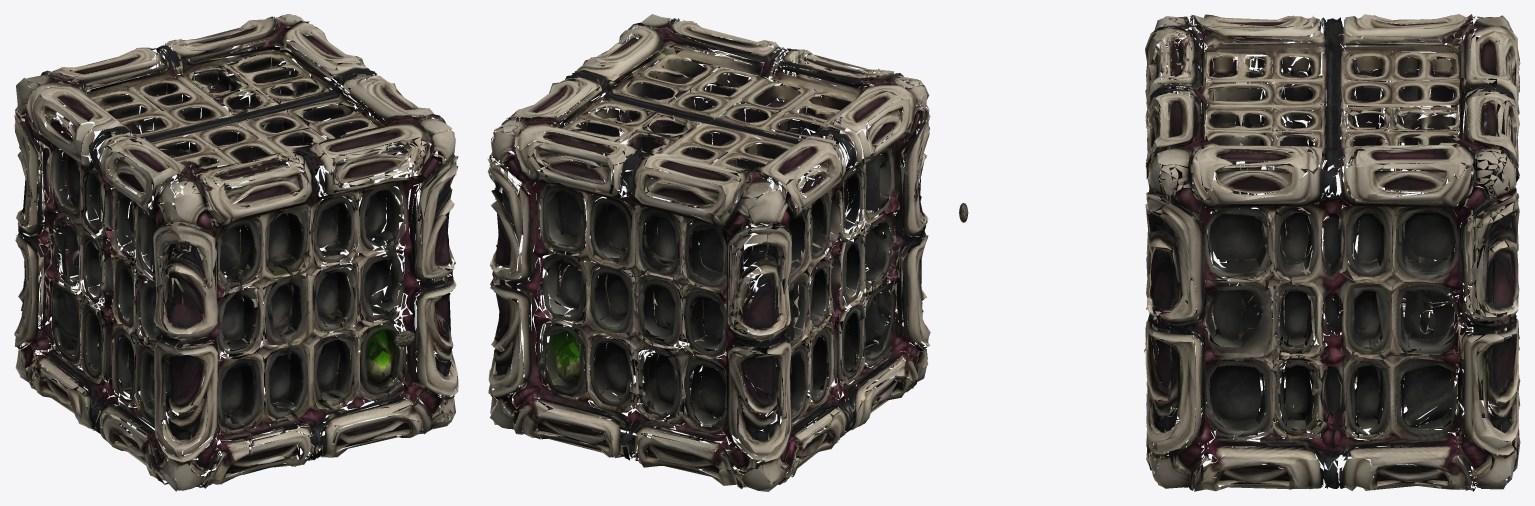
File: tallow_robbed_seed_absence_niche.glb
3 views of the same model, side by side, from view 1: azimuth 30°, elevation 25°; view 2: azimuth 150°, elevation 25°; view 3: azimuth 270°, elevation 25° (orthographic). The views are drawn at different scales.
Visible parts, largest first — view 1: node_0; view 2: node_0; view 3: node_0.
Boxes of the visible parts, x1=… form: node_0: x1=14, y1=14, x2=458, y2=491; node_0: x1=487, y1=14, x2=930, y2=491; node_0: x1=1144, y1=14, x2=1520, y2=491.
Size of the model in its own units: 0.7431 by 0.7429 by 1.11.
1 material, 1 textured.
